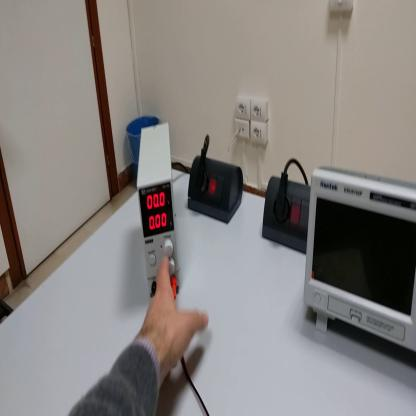hand: (141, 254, 208, 375)
oscilloscope: (303, 166, 416, 358)
power supply: (139, 127, 183, 299)
socket: (188, 150, 245, 228), (262, 173, 311, 254)
